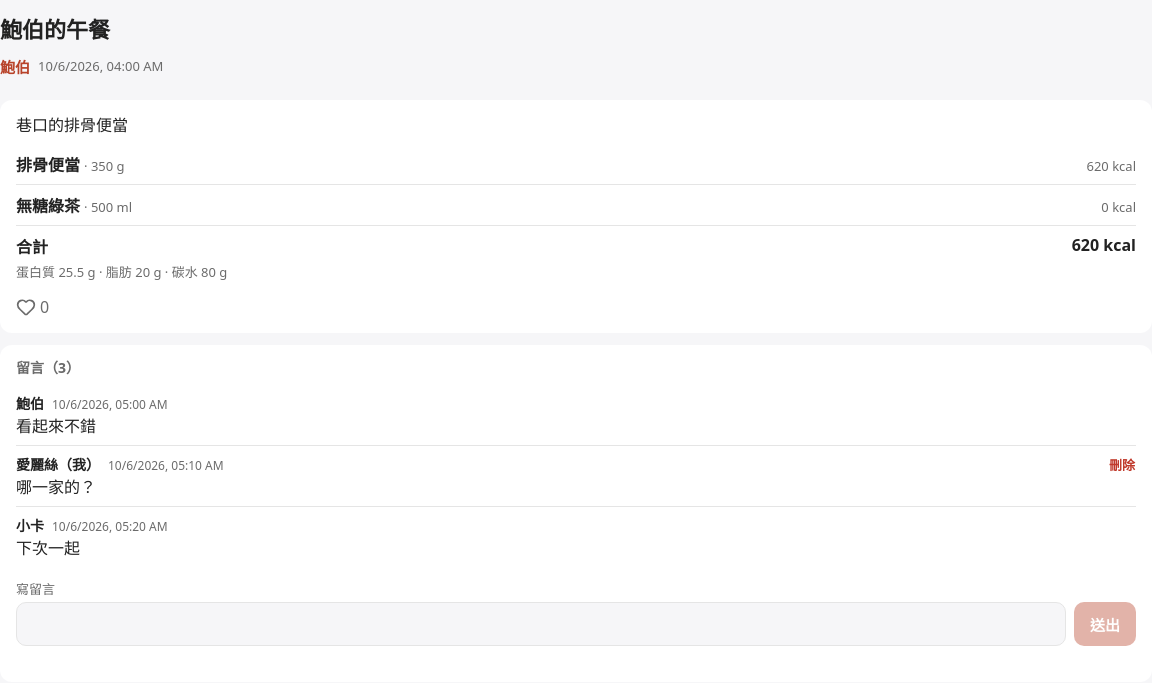
Test: 餐點頁：刪留言 › 取消：確認框打開時焦點在「取消」；取消之後不送、焦點回到刪除鈕
Click the button with aria-label "刪除 愛麗絲 的留言": [1122, 464] box [1100, 442, 1144, 486]
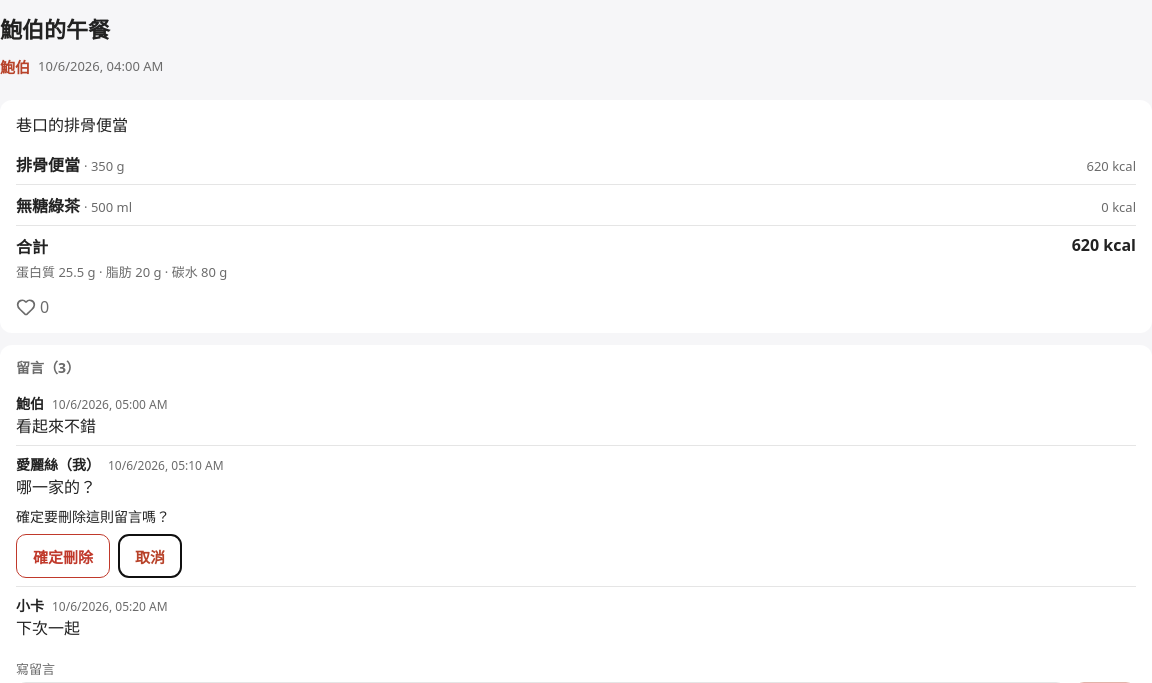
Click the button "取消": [150, 556] box [118, 534, 182, 578]
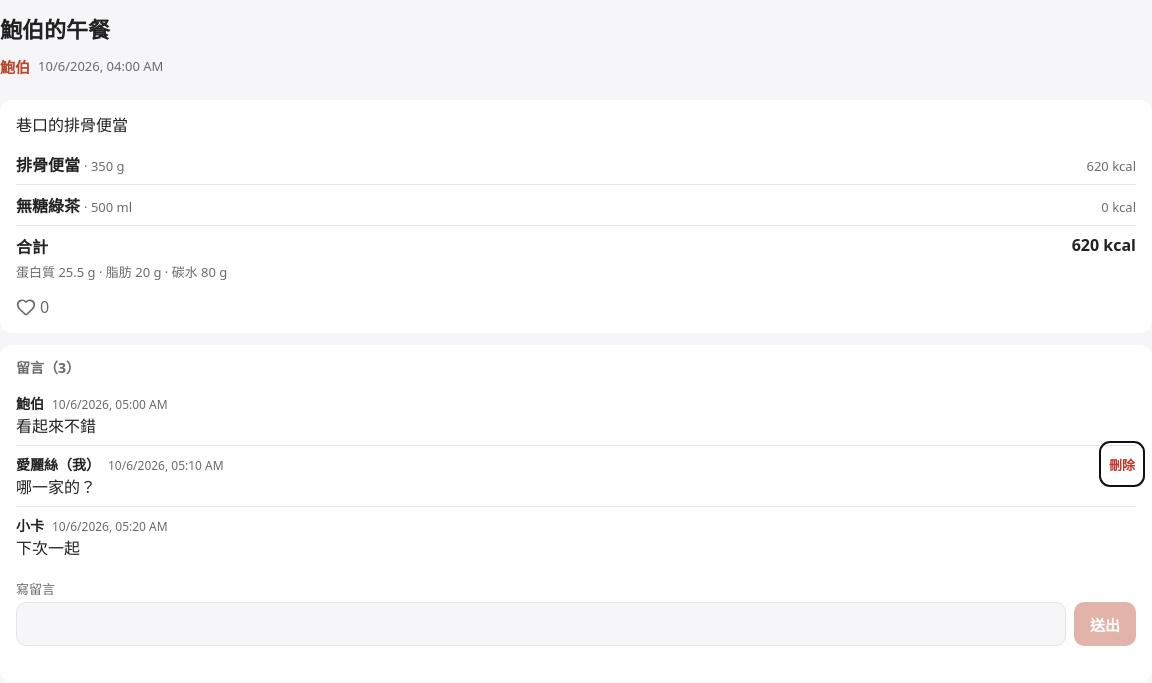
Expected: the text "哪一家的？" is shown, [16, 476, 96, 498]
Expected: the dialog is gone
